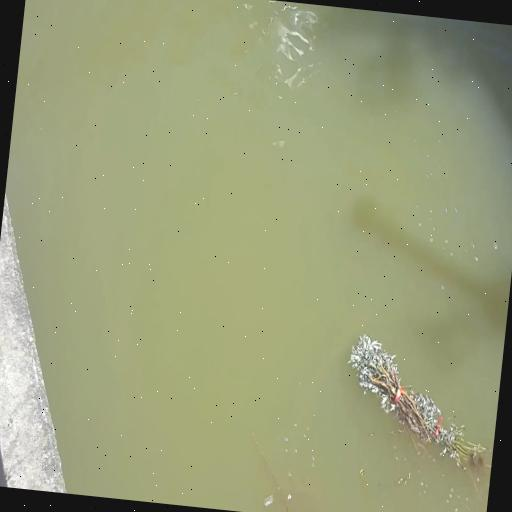twig: (335, 329, 504, 488)
